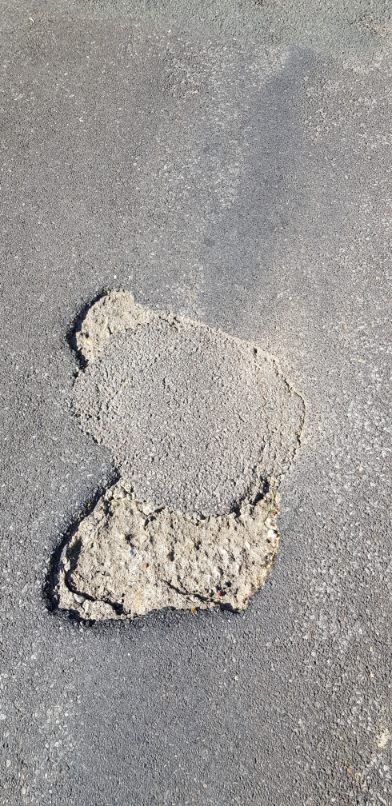pothole: (38, 465, 283, 628), (61, 281, 164, 372)
